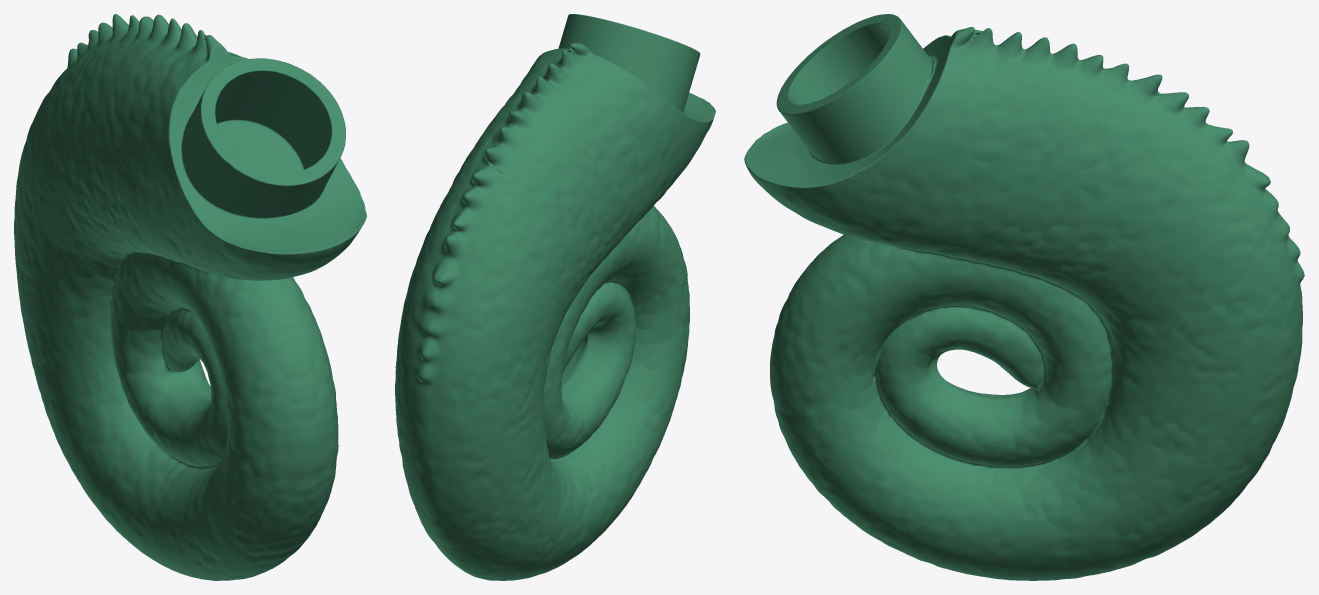
The model's file is Queue_Cameleon.glb.
3 renders of one model, left to right at view 1: azimuth 30°, elevation 25°; view 2: azimuth 150°, elevation 25°; view 3: azimuth 270°, elevation 25°, orthographic. The views are drawn at different scales.
Visible parts, largest first — view 1: Queue_Cameleon; view 2: Queue_Cameleon; view 3: Queue_Cameleon.
Boxes of the visible parts, bbox=[...] form: Queue_Cameleon: bbox=[14, 14, 366, 580]; Queue_Cameleon: bbox=[395, 14, 715, 580]; Queue_Cameleon: bbox=[744, 14, 1304, 580].
Bounding box in the file's own units: 0.8634 × 2.88 × 2.66.
